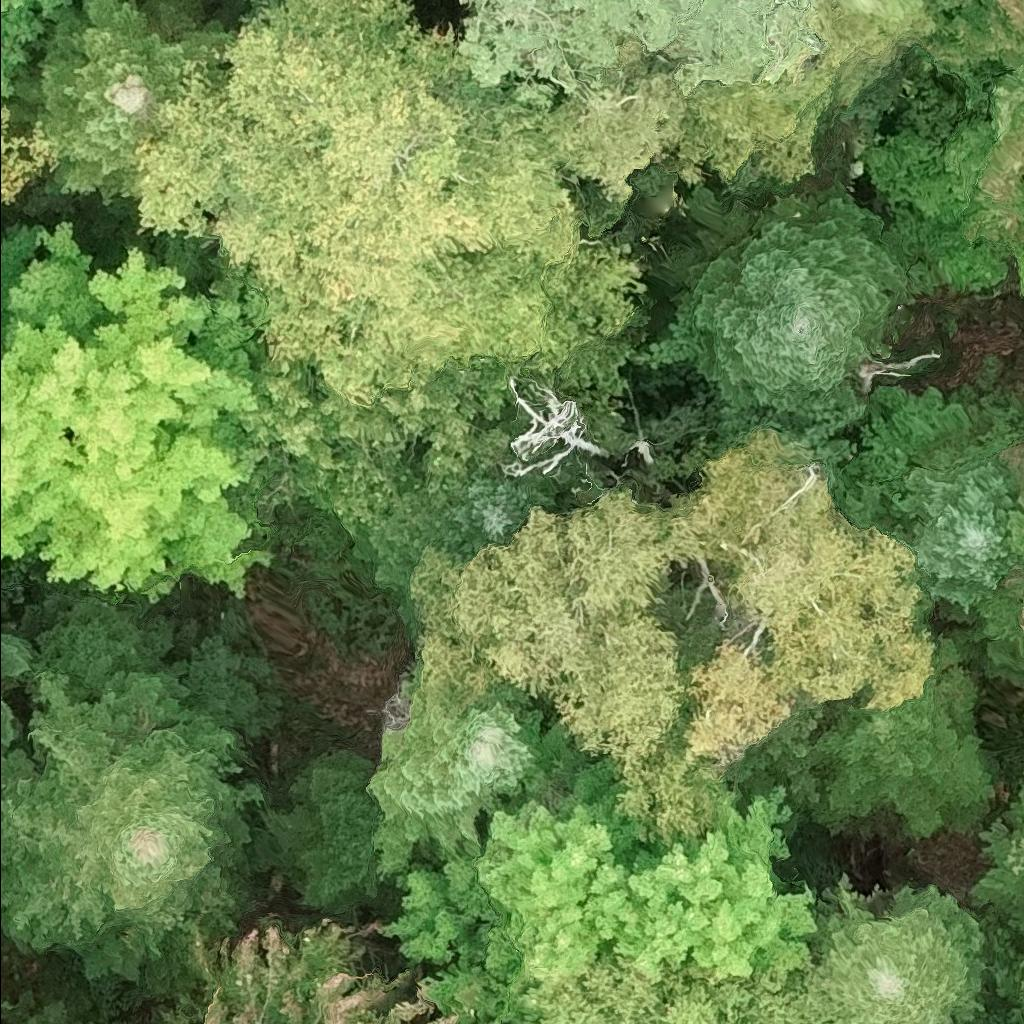crown: (128, 0, 586, 404), (380, 755, 819, 1023), (0, 591, 279, 984), (0, 220, 266, 602), (402, 482, 687, 787), (666, 429, 936, 712), (656, 184, 917, 411), (857, 0, 1023, 309), (0, 0, 233, 219), (538, 36, 838, 202), (364, 676, 588, 880), (452, 0, 826, 114), (813, 631, 1001, 842), (785, 870, 992, 1023), (159, 918, 430, 1023), (347, 473, 565, 601), (507, 951, 825, 1023), (880, 457, 1019, 613), (259, 751, 386, 917), (675, 639, 799, 776), (613, 735, 741, 844), (810, 0, 943, 102), (498, 377, 613, 477), (972, 436, 1023, 659), (0, 0, 73, 105), (0, 104, 60, 209), (0, 624, 36, 755), (0, 985, 110, 1023), (433, 1015, 462, 1023), (71, 0, 75, 2)
